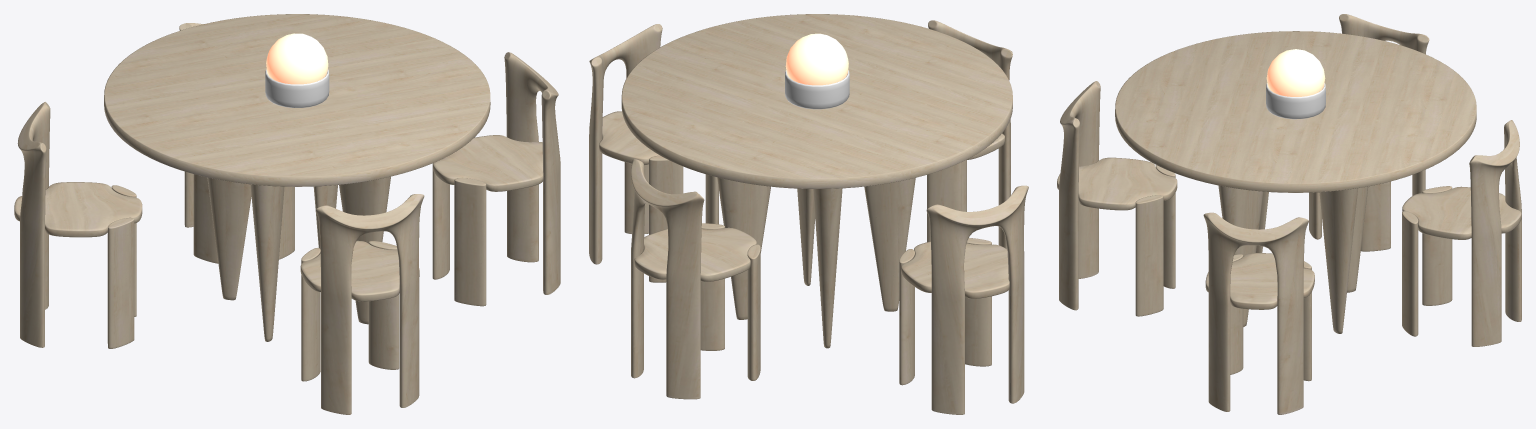
3 renders of one model, left to right at view 1: azimuth 30°, elevation 25°; view 2: azimuth 150°, elevation 25°; view 3: azimuth 270°, elevation 25°, orthographic. The views are drawn at different scales.
Parts seen in each view (by area): view 1: Table, Stool_01, Stool_02, Stool_03, Stool_04, Lamp_Light, Lamp_Base; view 2: Table, Stool_03, Stool_04, Stool_02, Stool_01, Lamp_Light, Lamp_Base; view 3: Table, Stool_04, Stool_01, Stool_02, Stool_03, Lamp_Light, Lamp_Base.
Boxes of the visible parts, <box> form: Table: <box>104,14,490,341</box>; Stool_01: <box>300,194,424,414</box>; Stool_02: <box>432,52,560,306</box>; Stool_03: <box>14,102,142,348</box>; Stool_04: <box>179,23,294,263</box>; Lamp_Light: <box>266,33,328,84</box>; Lamp_Base: <box>265,69,329,107</box>; Table: <box>621,14,1012,348</box>; Stool_03: <box>899,185,1028,414</box>; Stool_04: <box>631,159,760,399</box>; Stool_02: <box>589,24,718,282</box>; Stool_01: <box>927,20,1012,248</box>; Lamp_Light: <box>785,33,848,85</box>; Lamp_Base: <box>785,70,849,109</box>; Table: <box>1115,31,1476,333</box>; Stool_04: <box>1402,120,1521,346</box>; Stool_01: <box>1057,81,1177,316</box>; Stool_02: <box>1203,212,1314,414</box>; Stool_03: <box>1309,14,1429,251</box>; Lamp_Light: <box>1266,49,1325,96</box>; Lamp_Base: <box>1266,83,1325,119</box>.
Bounding box in the file's own units: 1348 × 749 × 1227.
3 materials, 1 textured.
